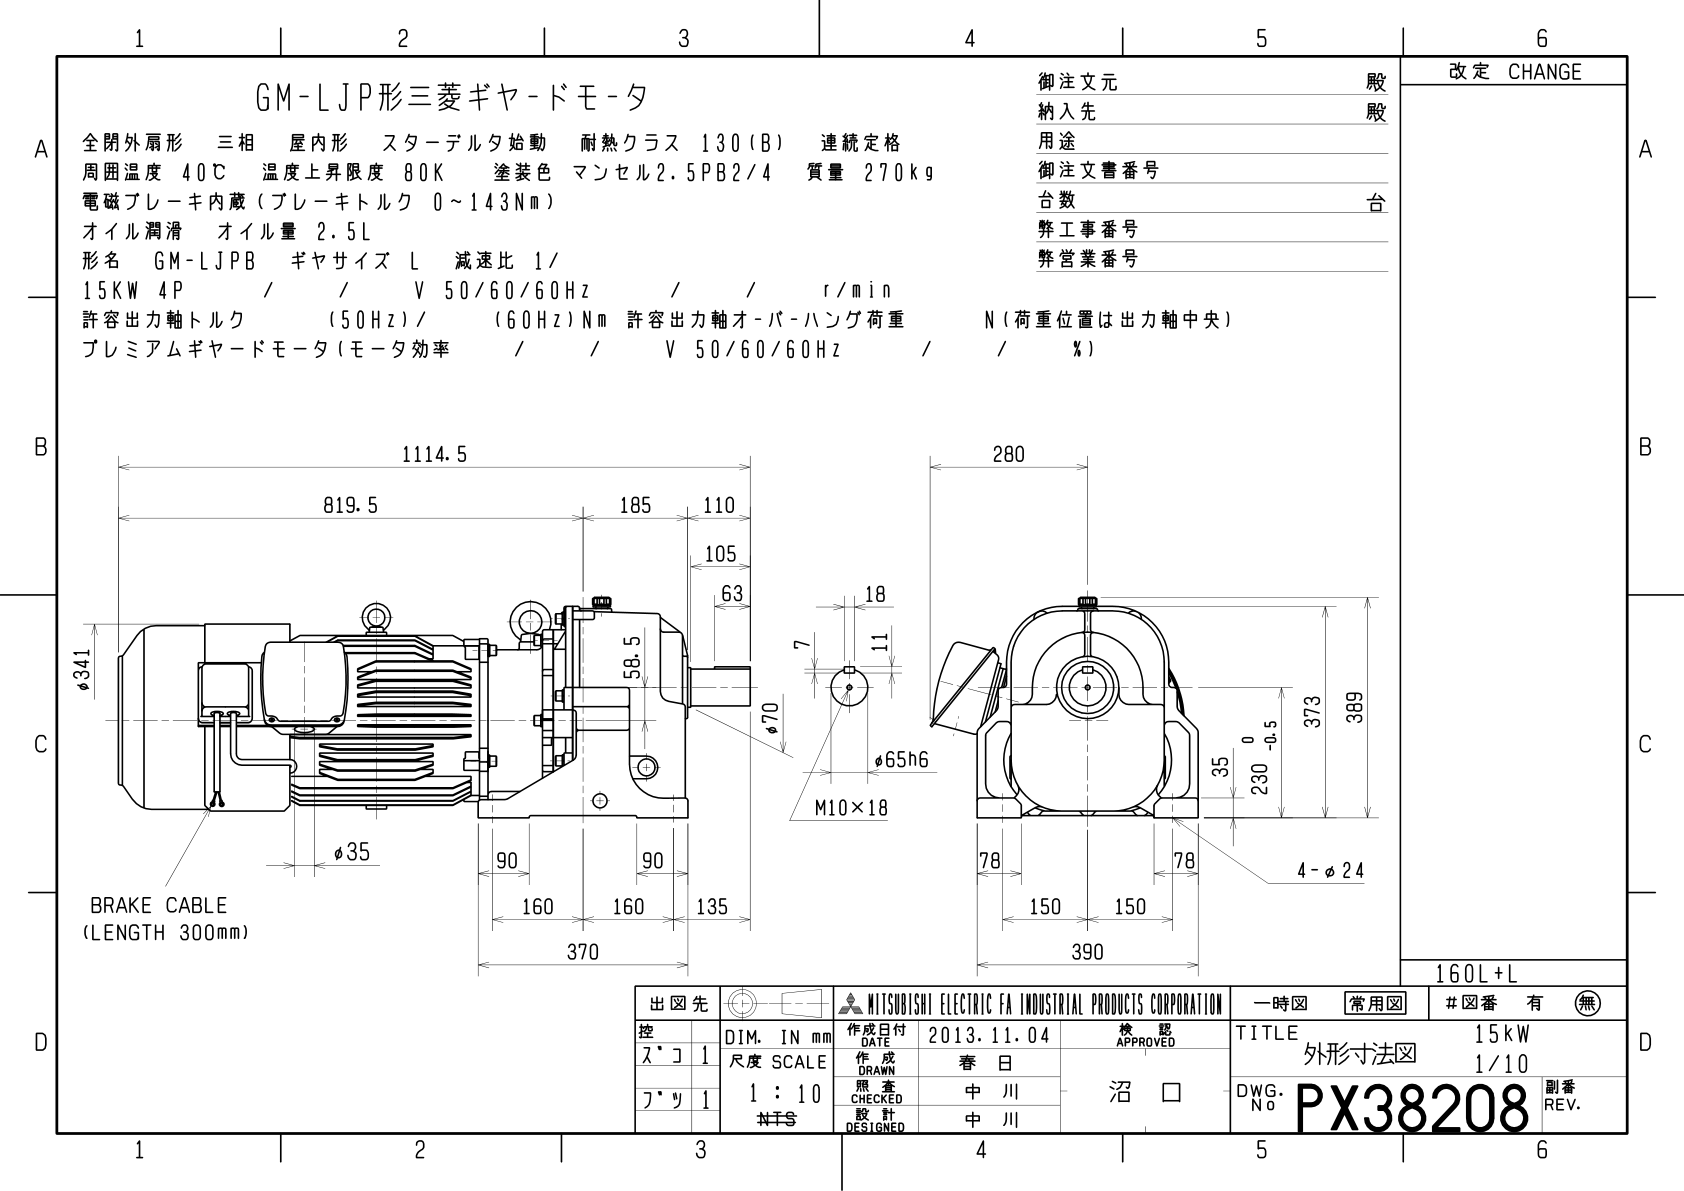GM_LJP_屋内_三相_脚: (70, 427, 1385, 973)
